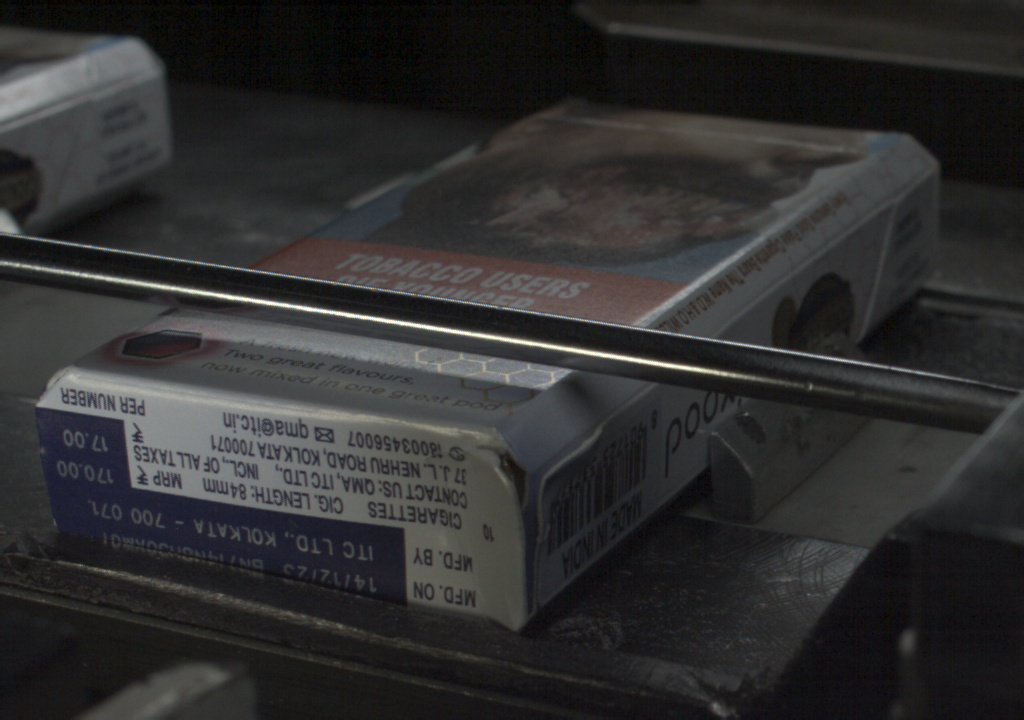g_label: (46, 487, 410, 600)
g_lmiter: (803, 192, 891, 265), (717, 264, 802, 334), (611, 387, 650, 421)
g_miter: (898, 163, 940, 194)
ng_bottom: (477, 426, 538, 520)
ng_lmiter: (528, 426, 606, 487)
price: (38, 417, 128, 486)
